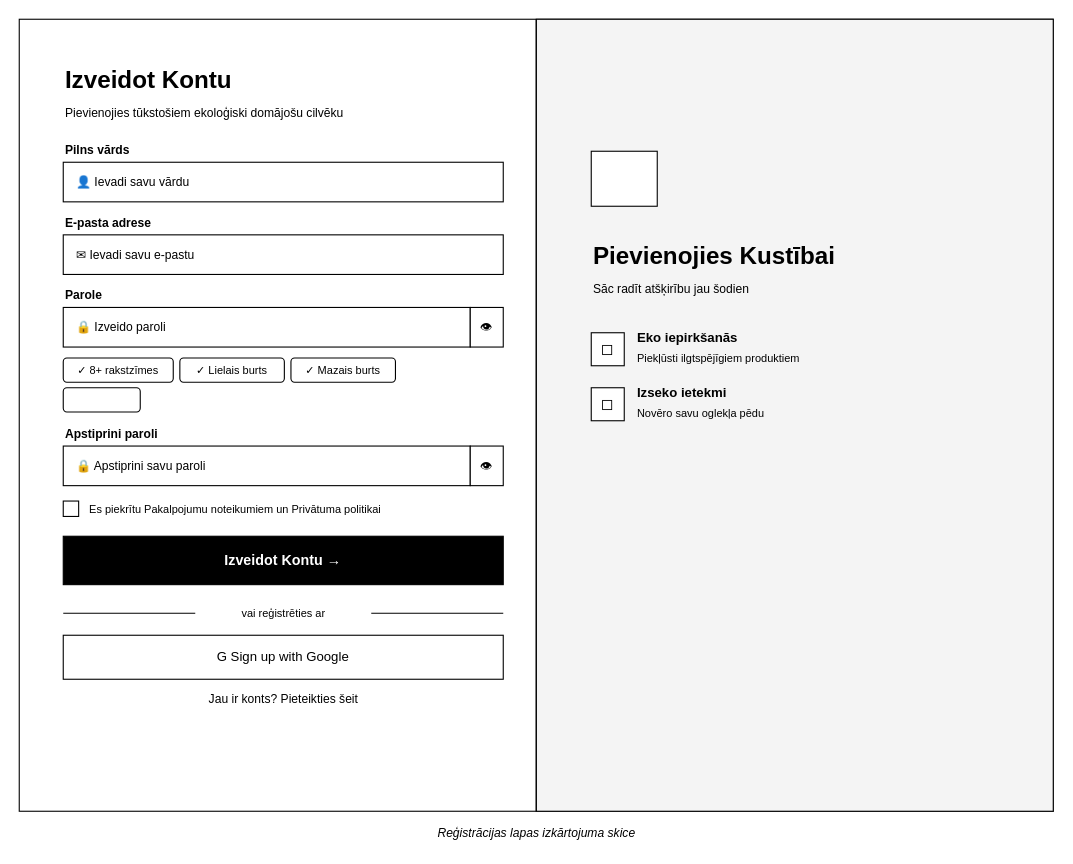
Some shapes in this 1073 by 864 pixel diagram are drawn without their labels. The centre of each missing label's shape, as x and y in pixels:
LOGO: point 623,178
✓ Cipars: point 101,399
